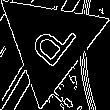P_SW: (21, 11, 78, 74)
